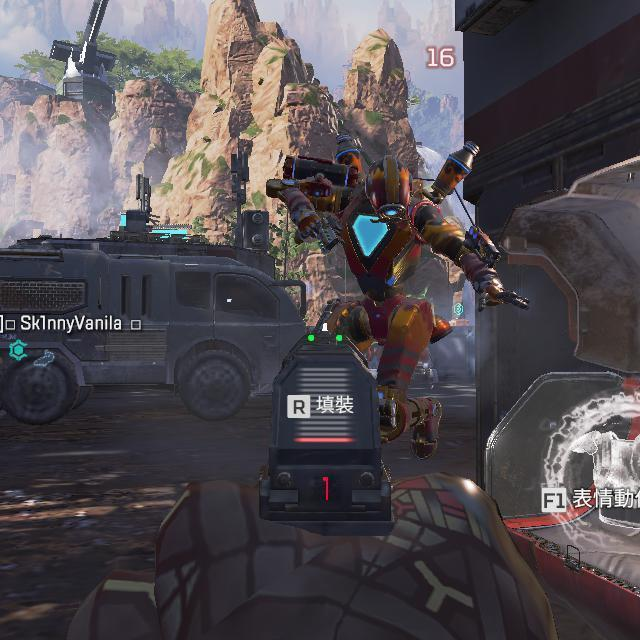avatar: (263, 132, 533, 463)
